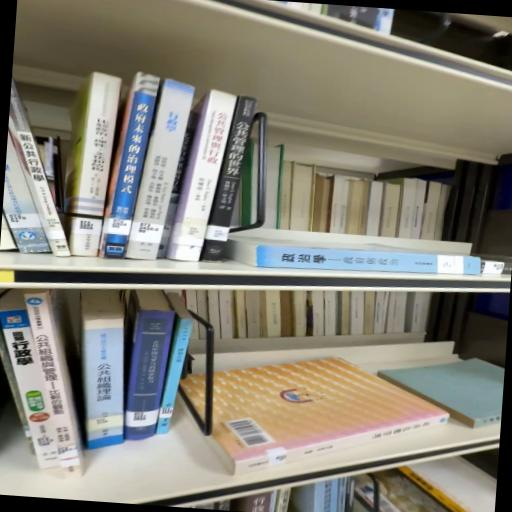flat: (208, 358, 449, 474), (223, 236, 478, 275)
